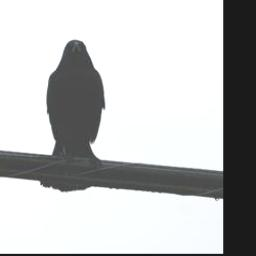Crow: (41, 39, 108, 193)
